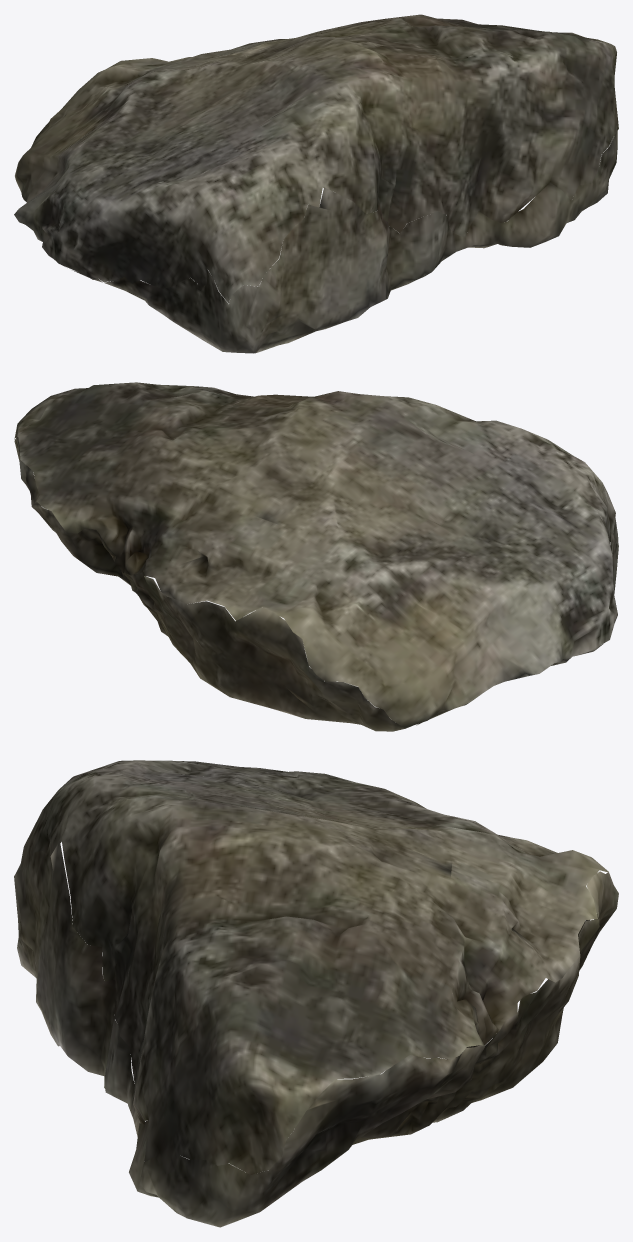
The model's file is rock-moss-set-02-rock10.glb.
The picture shows the model from 3 angles, top to bottom: view 1: azimuth 30°, elevation 25°; view 2: azimuth 150°, elevation 25°; view 3: azimuth 270°, elevation 25°; orthographic projection. The views are drawn at different scales.
Visible parts, largest first — view 1: rock_moss_set_02_rock10; view 2: rock_moss_set_02_rock10; view 3: rock_moss_set_02_rock10.
Part boxes in pixels (<box>): rock_moss_set_02_rock10: <box>14,14,618,353</box>; rock_moss_set_02_rock10: <box>14,382,618,731</box>; rock_moss_set_02_rock10: <box>14,760,618,1227</box>.
Size of the model in its own units: 2.2 by 0.7674 by 1.55.
1 material, 1 textured.
